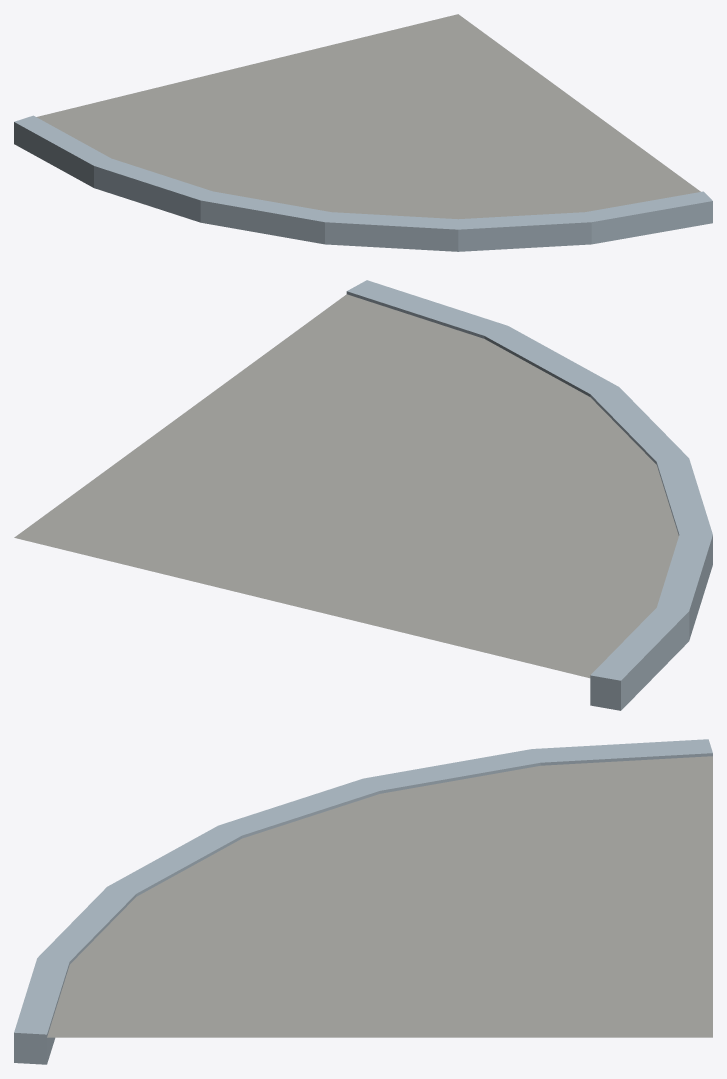
Rendered from Walkroad_2type.FBX.
3 renders of one model, top to bottom at view 1: azimuth 30°, elevation 25°; view 2: azimuth 150°, elevation 25°; view 3: azimuth 270°, elevation 25°, orthographic. The views are drawn at different scales.
Visible parts, largest first — view 1: Walkroad_2type (×2); view 2: Walkroad_2type (×2); view 3: Walkroad_2type (×2).
Boxes of the visible parts, left/top/right/bottom form: Walkroad_2type (×2): left=14, top=14, right=712, bottom=251; Walkroad_2type (×2): left=14, top=280, right=712, bottom=710; Walkroad_2type (×2): left=14, top=739, right=712, bottom=1064.
Bounding box in the file's own units: 525 × 25 × 525.
